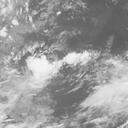cyclone: (24, 52, 60, 92)
